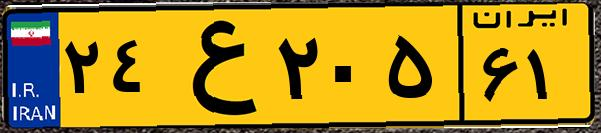0: (330, 28, 385, 110)
1: (525, 38, 570, 115)
2: (270, 28, 330, 110), (57, 26, 110, 100)
4: (110, 28, 158, 98)
5: (385, 28, 445, 110)
6: (475, 38, 525, 113)
ع: (158, 12, 270, 120)
